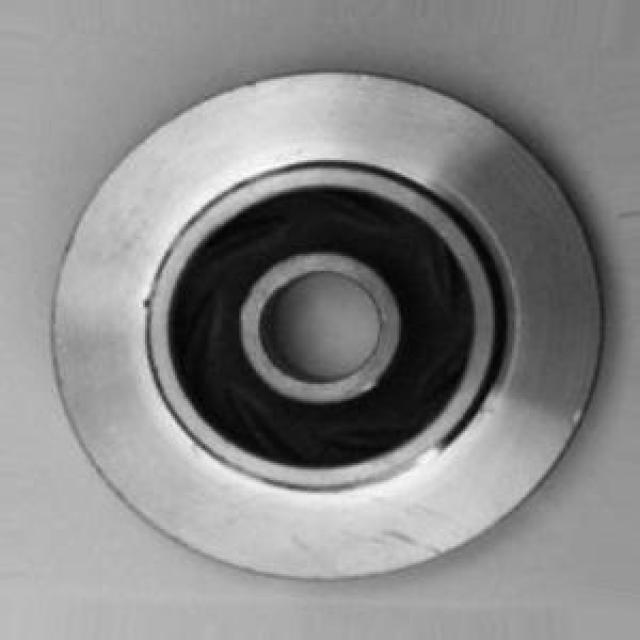Defect: (136, 287, 158, 314)
